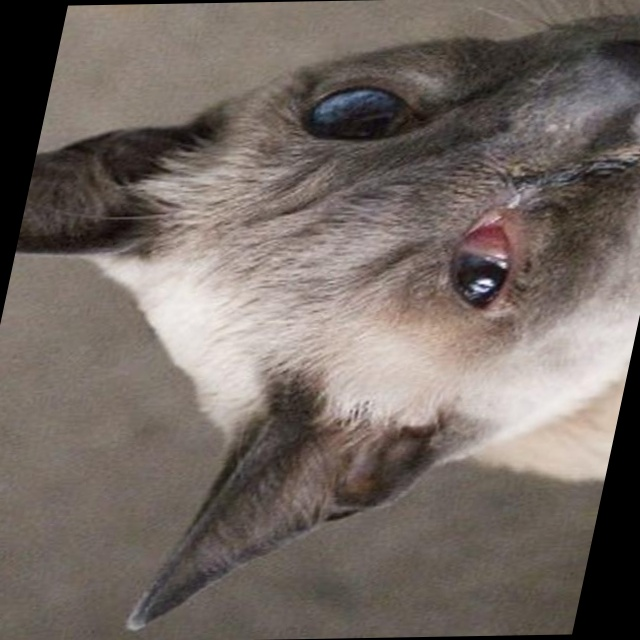eye_infection: (441, 206, 522, 318)
